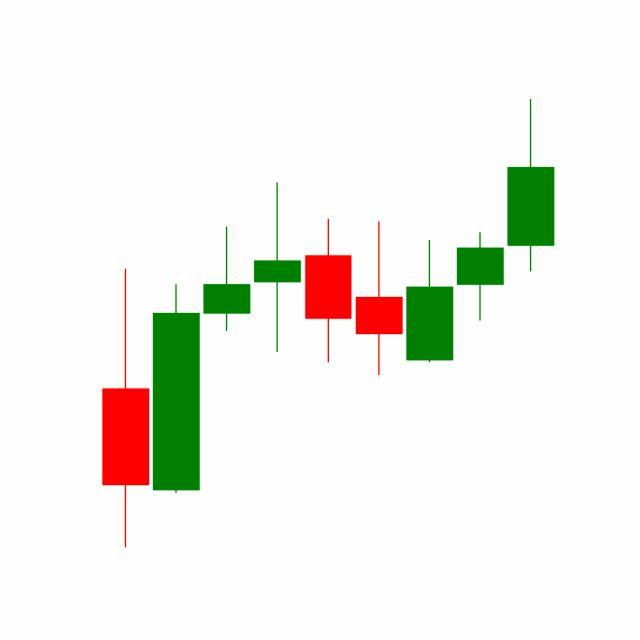Hikkake Pattern: (252, 180, 506, 378)
